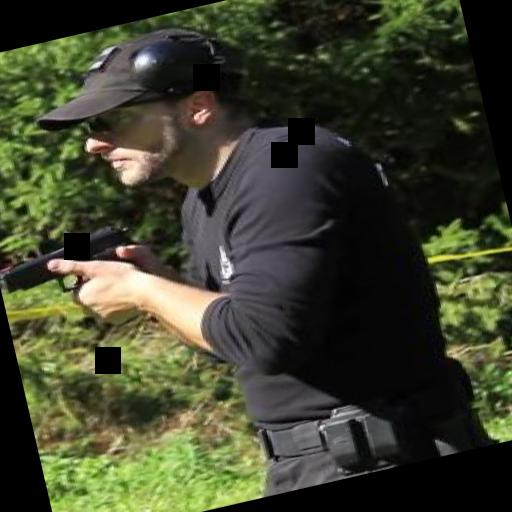Handgun: (0, 215, 151, 330)
